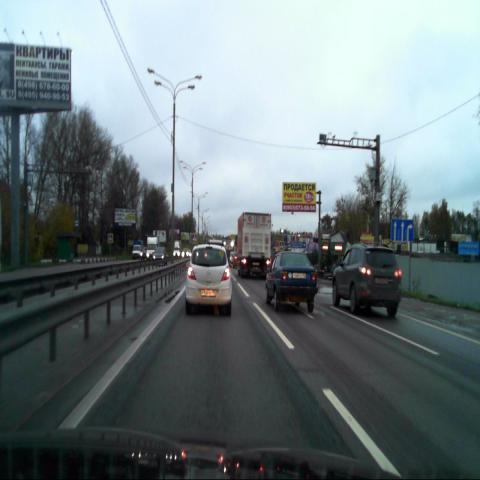5_15_1: (390, 218, 414, 243)
